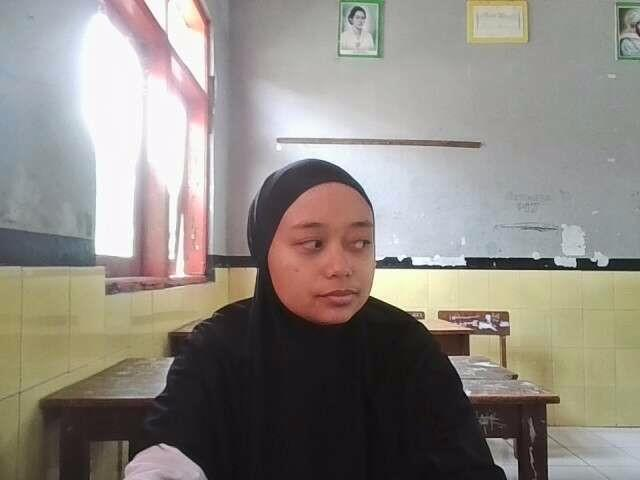cheating: (229, 136, 403, 360)
